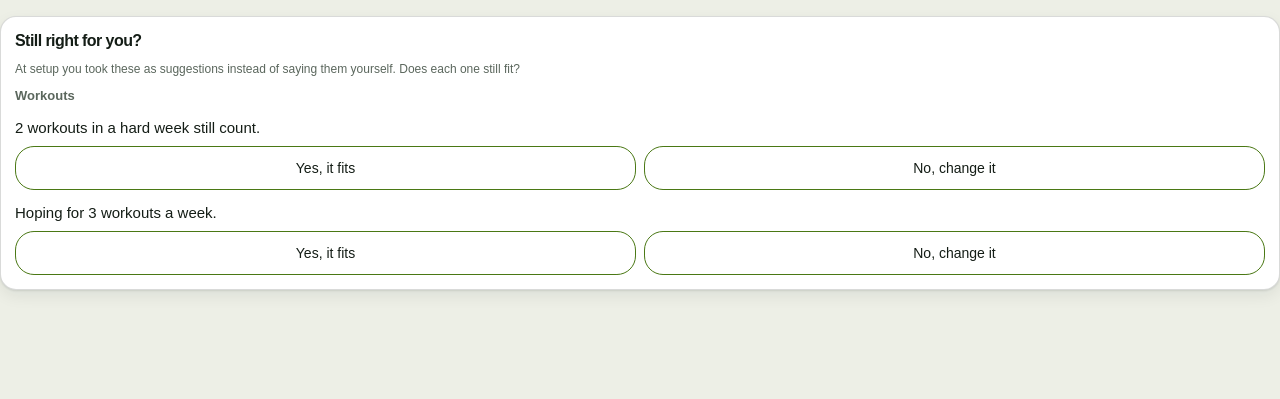
the finish › is not there until every row is answered, and is solid once it is
Check: the button "Finish review" is not shown
Click the radio button labelled "Yes, it fits" below "2 workouts in a hard week still count.". click: (326, 168)
box: [15,146,636,190]
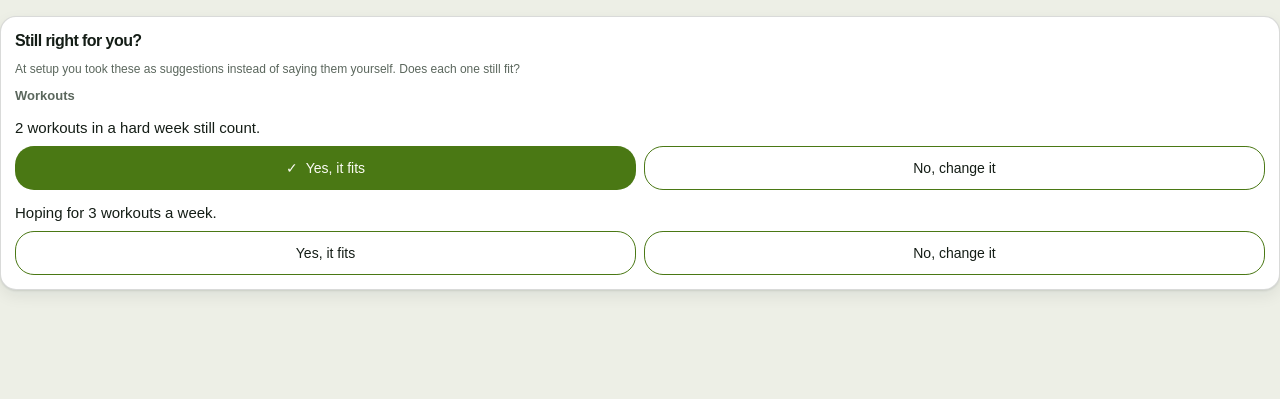
Check: the button "Finish review" is not shown
Click the radio button labelled "Yes, it fits". click: (326, 253)
box: [15,231,636,275]
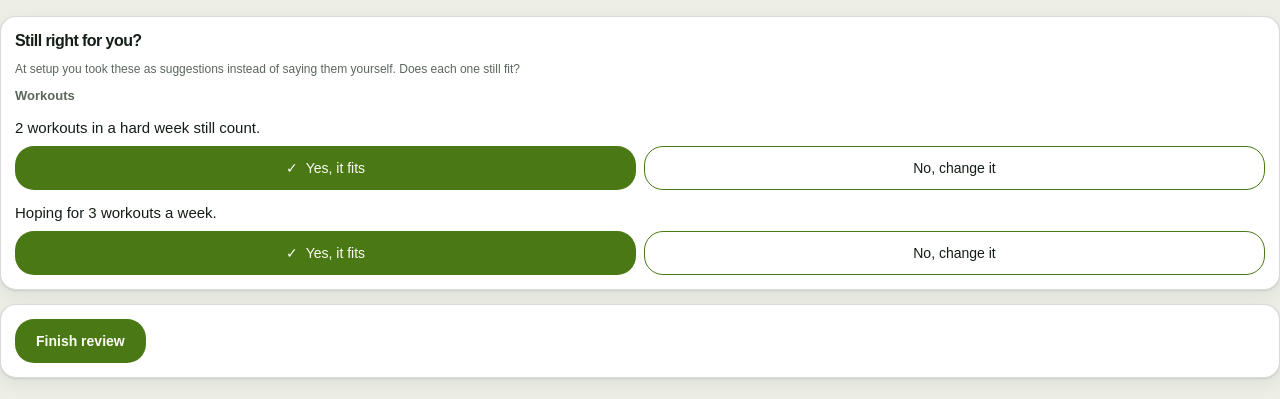
Check: the button "Finish review" is enabled, box [15,319,146,363]
